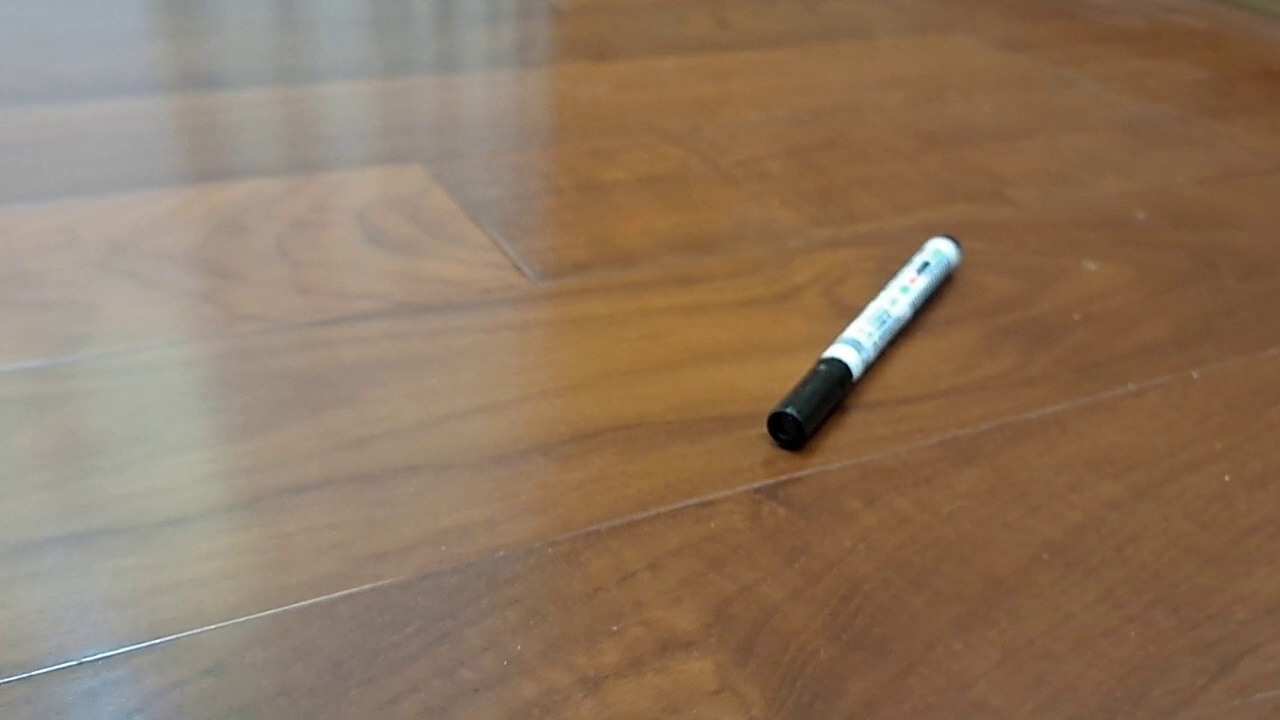pen: (767, 233, 963, 452)
